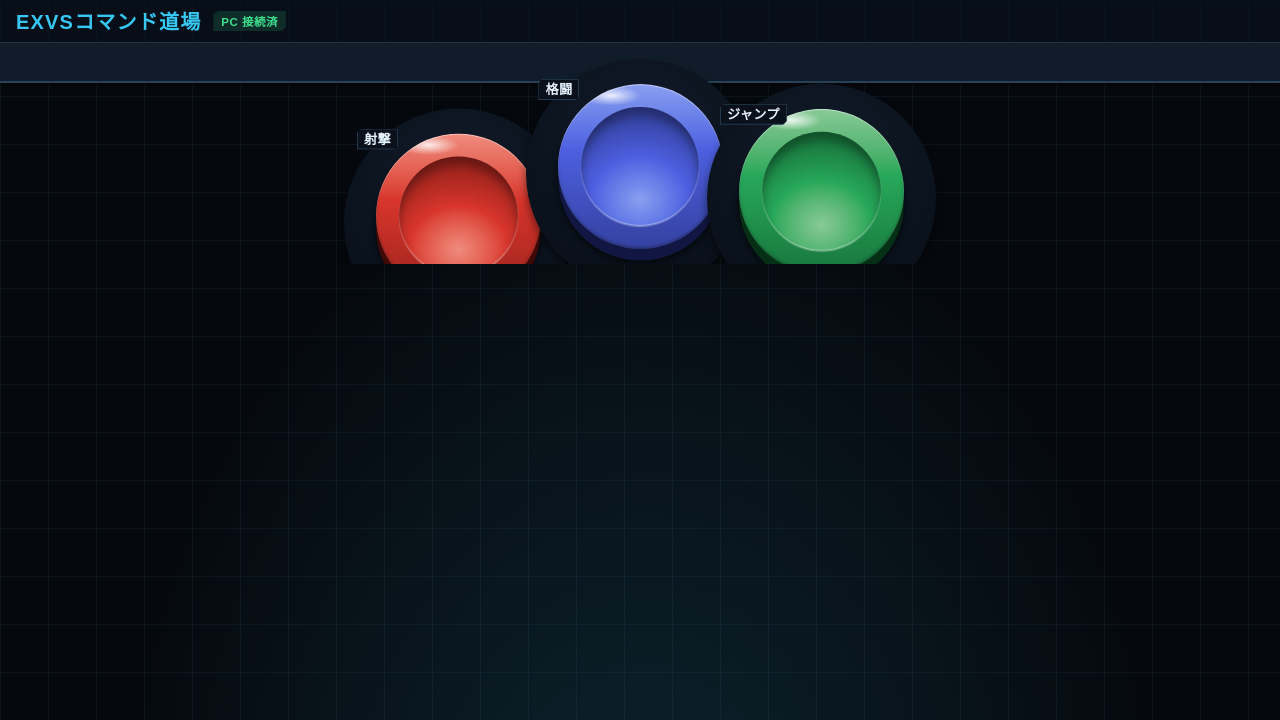
Scenario: FreePlayForm 入力リレー › つないでいれば接続状態を出し、生入力と解釈済み入力を送る
This screenshot has width=1280, height=720.
Expected: the button with test id "relay-status" reads "PC 接続済", [213, 11, 286, 31]
Press the mouse on the button "射撃" at coordinates (458, 216), box [376, 134, 541, 299]
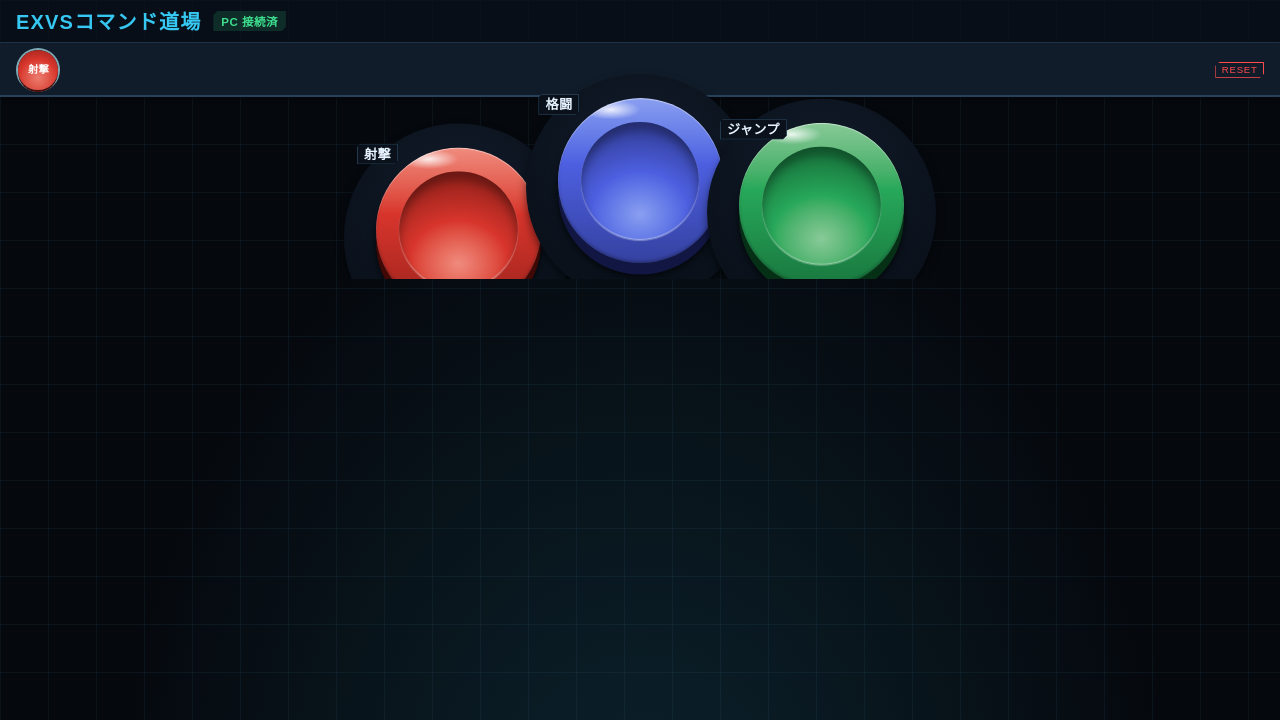
Expected: the number of elements with test id "sequence-step" is 1, [18, 50, 58, 90]
